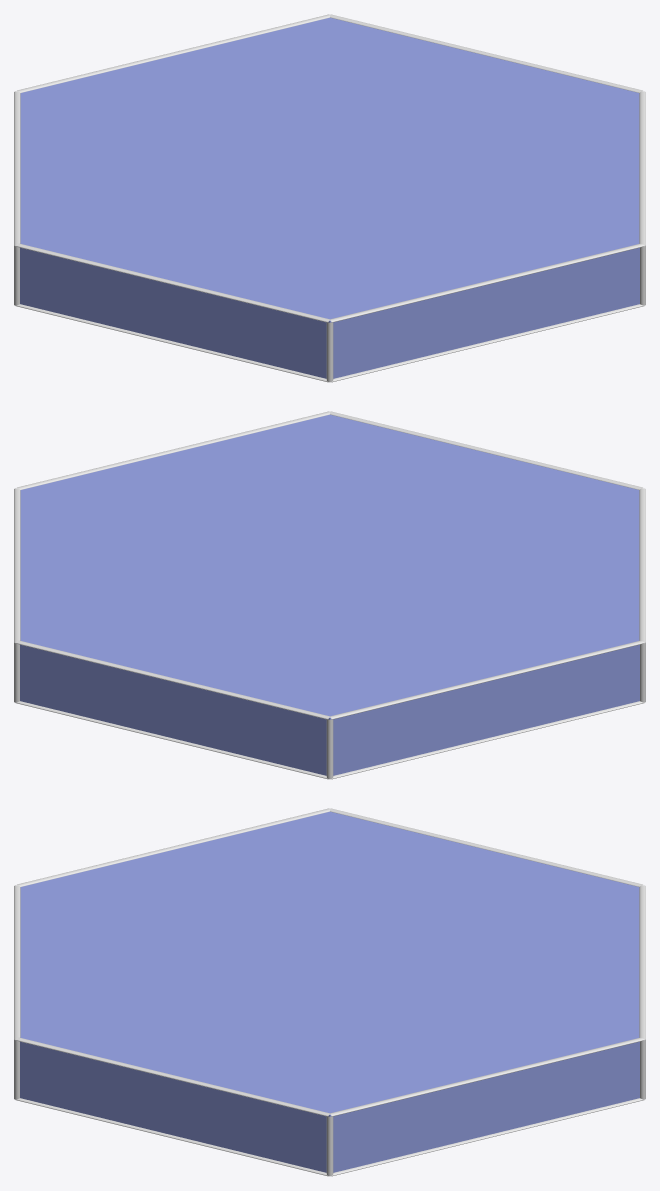
Rendered from core_creature_part_blueprint.glb.
3 renders of one model, top to bottom at view 1: azimuth 30°, elevation 25°; view 2: azimuth 150°, elevation 25°; view 3: azimuth 270°, elevation 25°, orthographic.
Parts seen in each view (by area): view 1: Cylinder.001; view 2: Cylinder.001; view 3: Cylinder.001.
Boxes of the visible parts, bbox=[...] form: Cylinder.001: bbox=[14, 14, 645, 382]; Cylinder.001: bbox=[14, 411, 645, 779]; Cylinder.001: bbox=[14, 808, 645, 1176].
Size of the model in its own units: 1.04 by 0.0976 by 0.9024.
